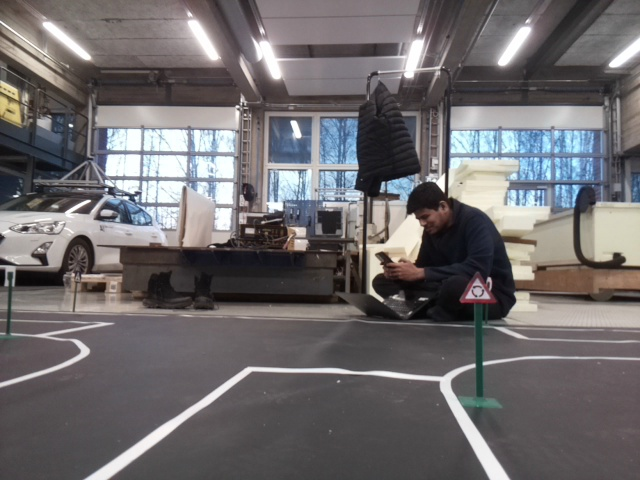Roundabout: (458, 272, 498, 304)
